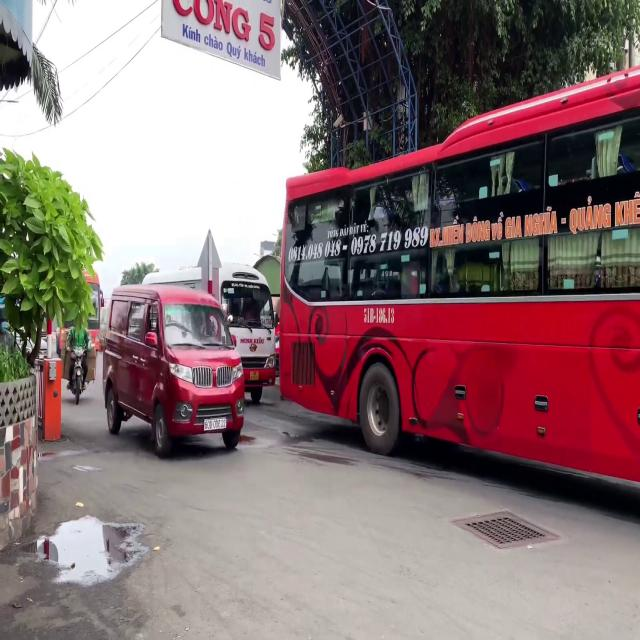bien_trang: (204, 419, 226, 431)
